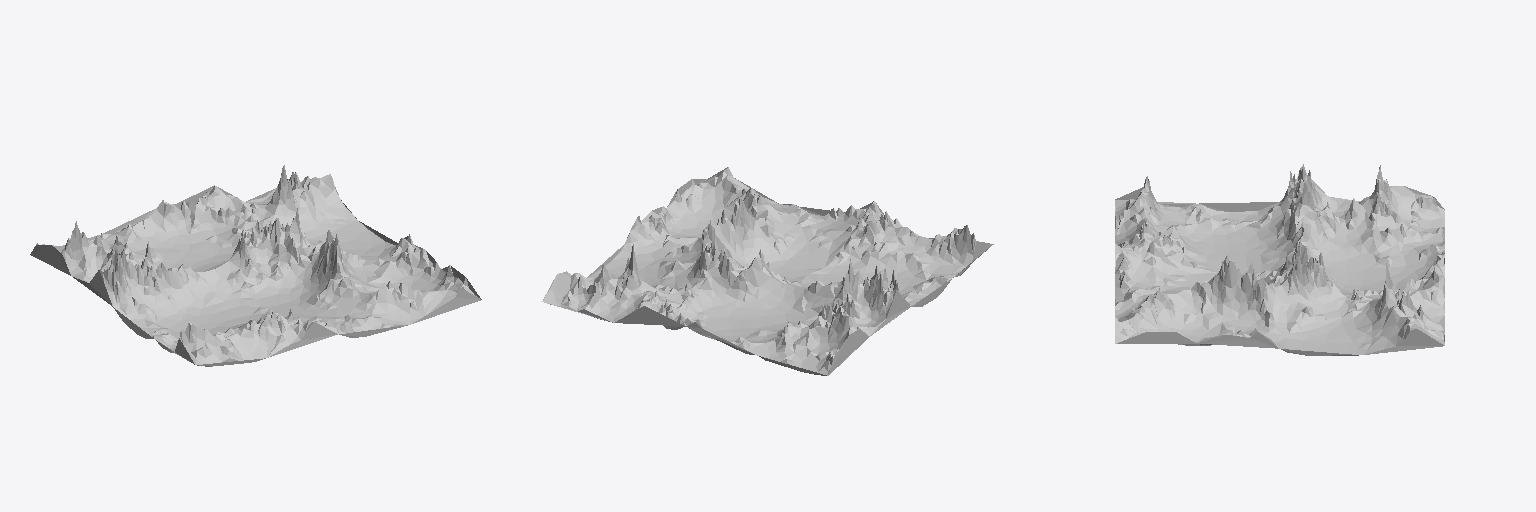
File: mountains.obj
3 renders of one model, left to right at view 1: azimuth 30°, elevation 25°; view 2: azimuth 150°, elevation 25°; view 3: azimuth 270°, elevation 25°, orthographic.
Parts seen in each view (by area): view 1: mountains; view 2: mountains; view 3: mountains.
Boxes of the visible parts, <box> form: mountains: <box>30,165,481,366</box>; mountains: <box>542,167,993,375</box>; mountains: <box>1115,164,1444,355</box>.
Size of the model in its own units: 160 by 35.44 by 160.